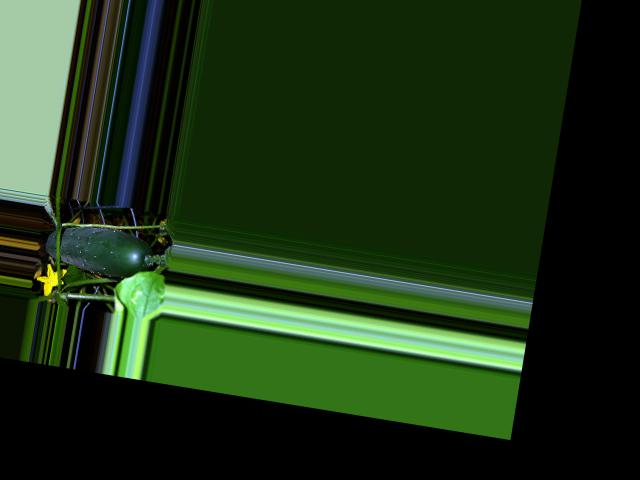cucumber: (43, 218, 158, 282)
